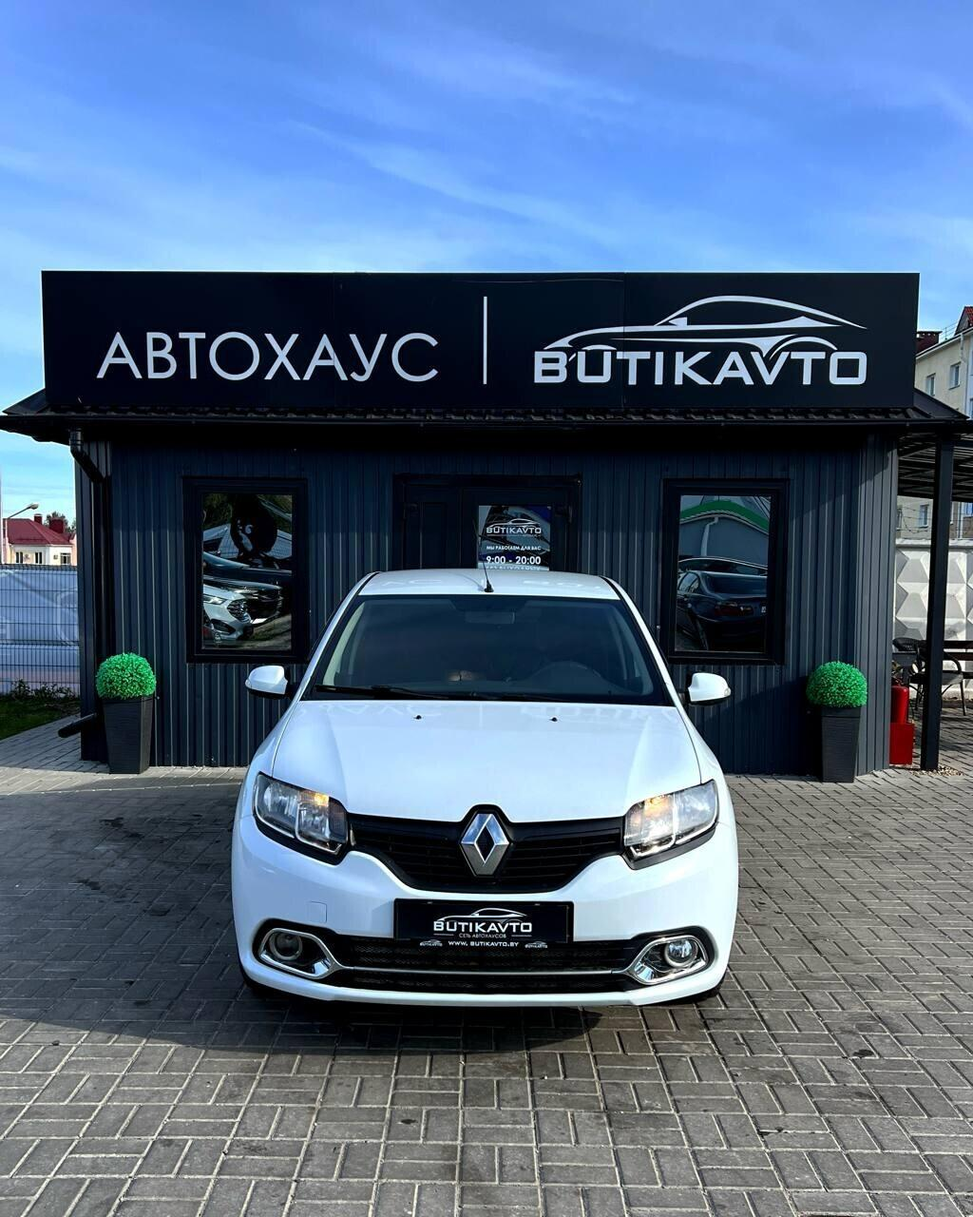Logan_2013-2018: (225, 569, 746, 1030)
